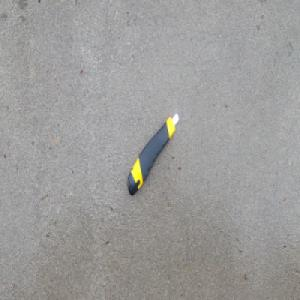Cutter: (127, 112, 179, 197)
